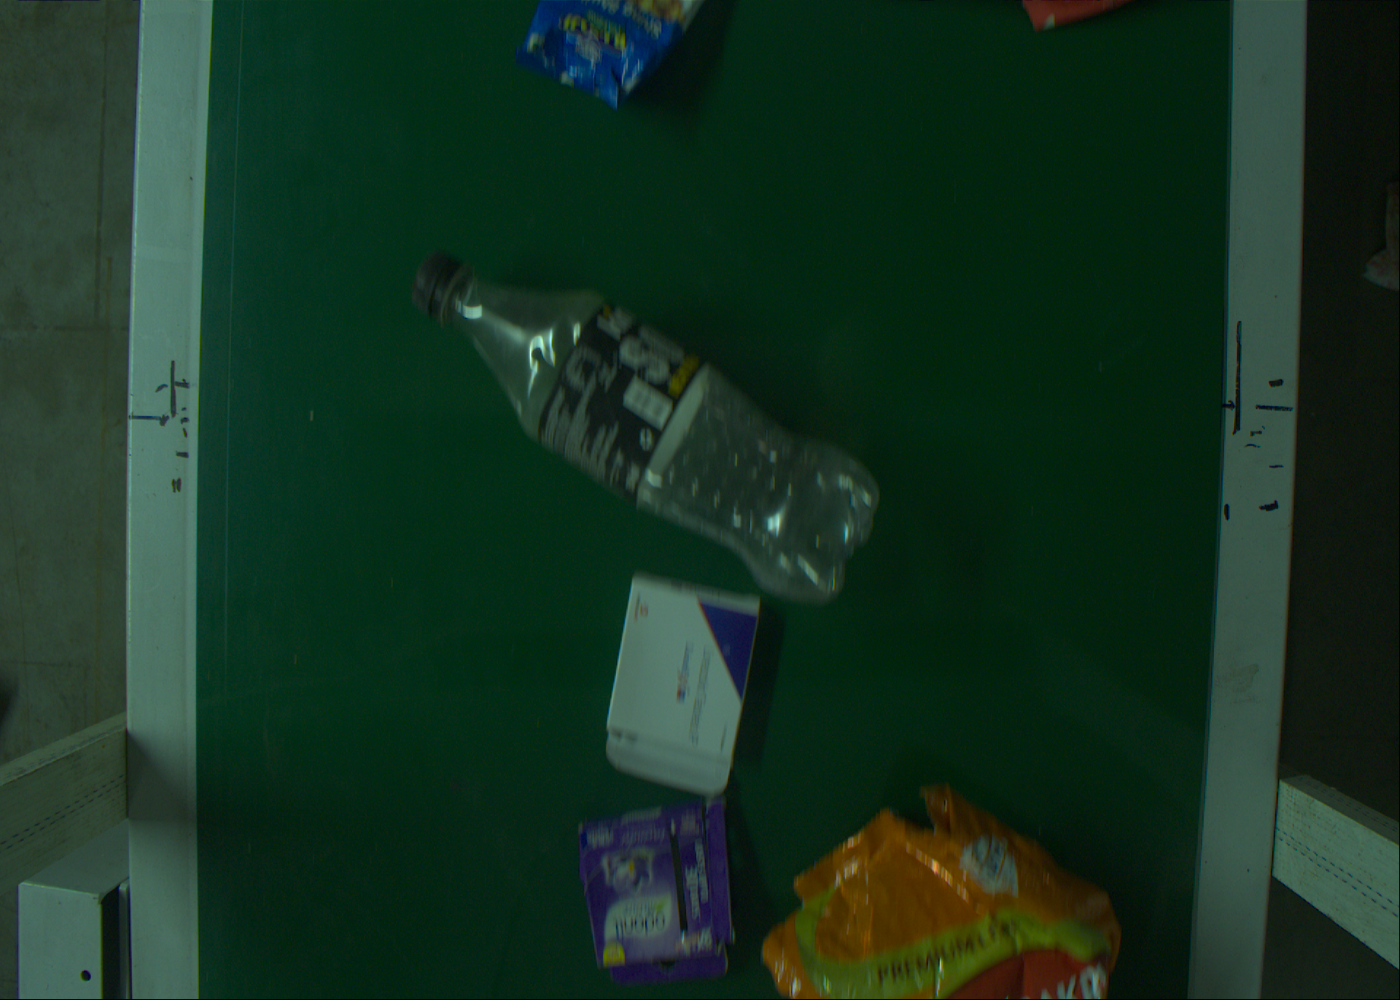cardboard: (595, 580, 788, 779), (576, 805, 731, 985)
multilayer_plastic: (777, 792, 1111, 996), (507, 1, 713, 110)
pet_bottle: (407, 248, 871, 585)
